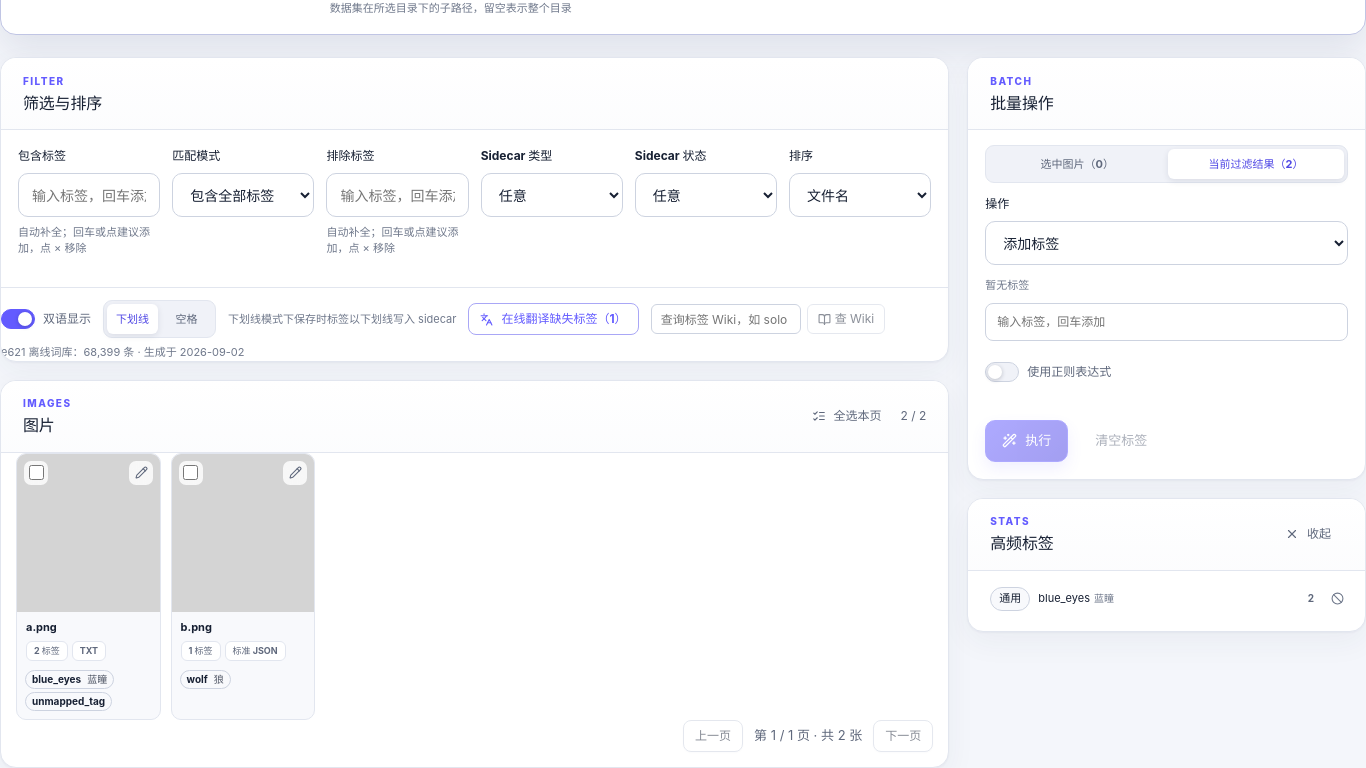
Test: TagManager bilingual display › renders stats and autocomplete bilingually
The image size is (1366, 768).
(page scrolled)
Expected: the button titled "筛选包含 blue_eyes · 蓝瞳" is shown, [983, 582, 1321, 616]
Double-click the button titled "a.png": (88, 545) [17, 454, 160, 637]
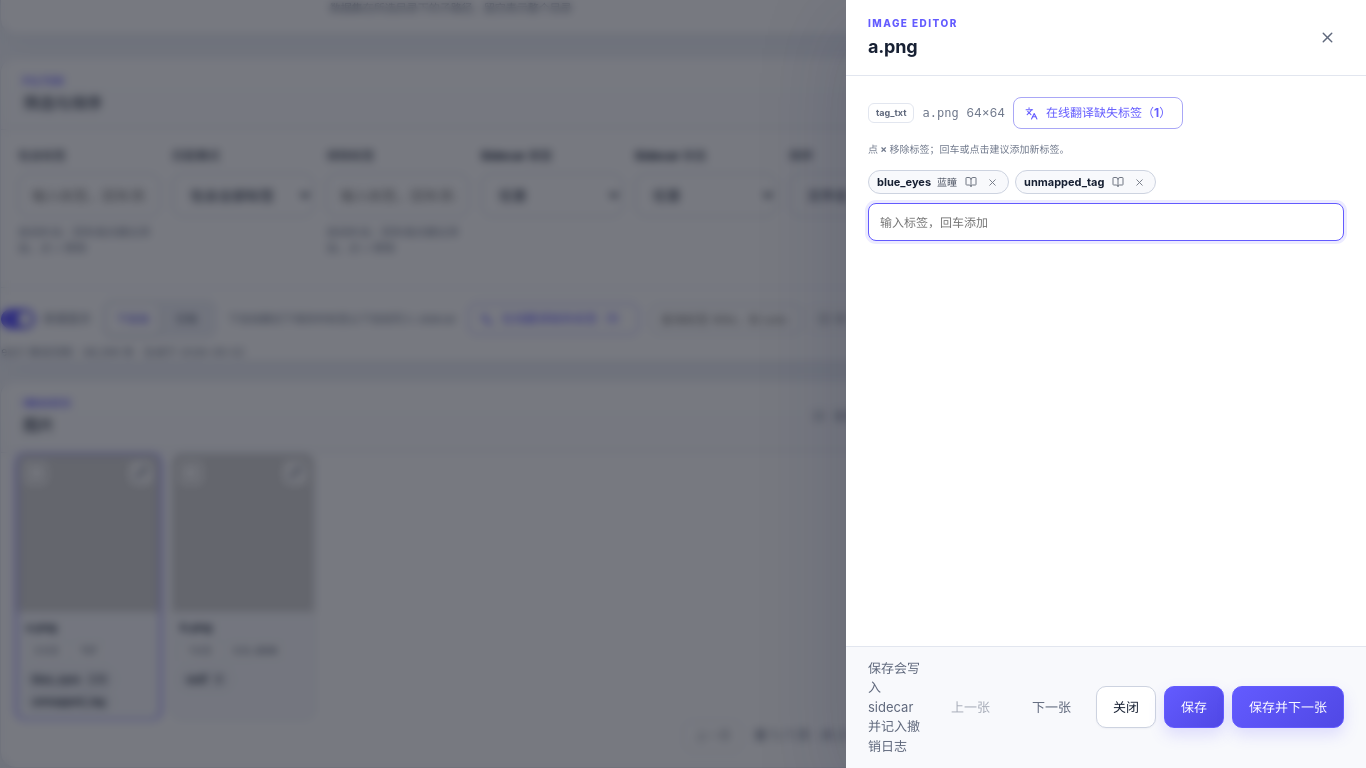
Now the dialog "a.png" is shown, box [846, 0, 1365, 767]
In the dropdown named "添加标签": (1106, 222) [868, 203, 1344, 241], type "long"
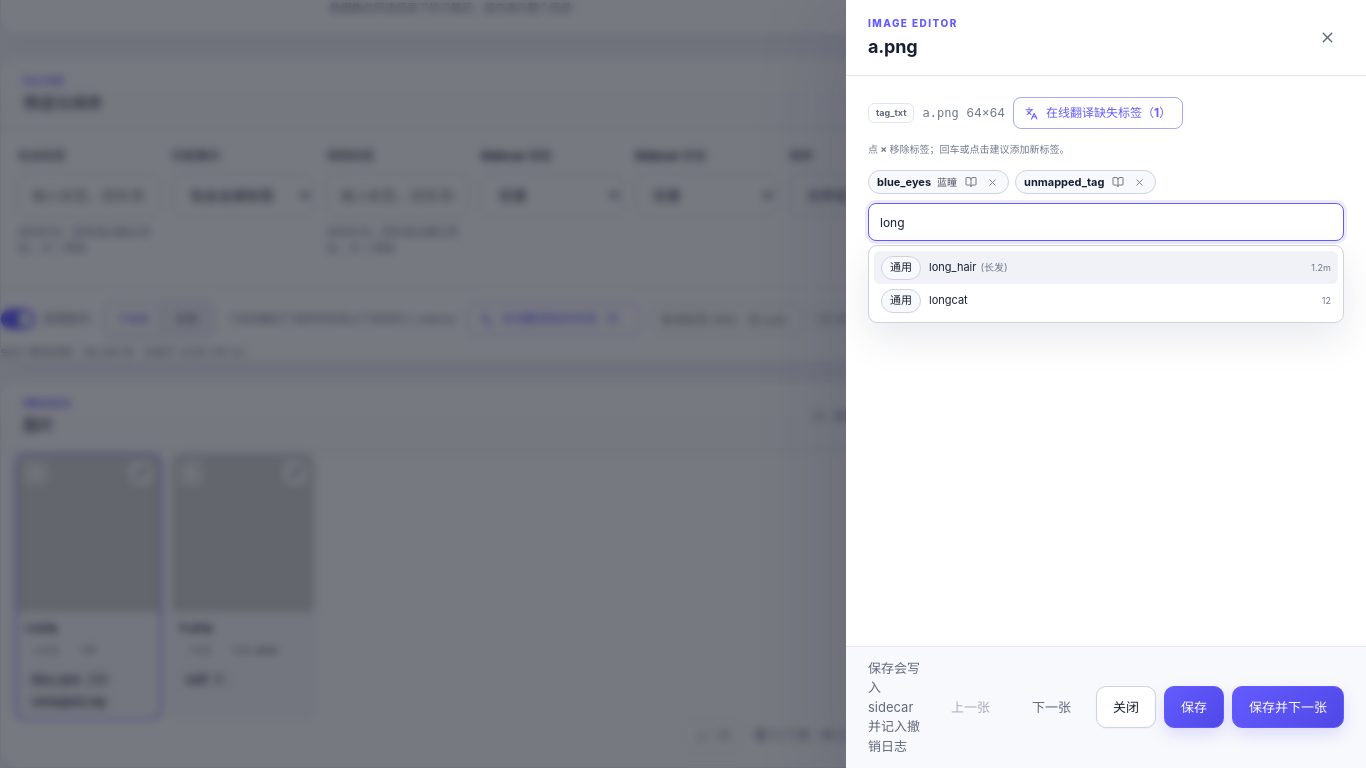
Expected: the option "通用 longcat 12" does not show "（", [874, 284, 1338, 317]
Now the option "通用 long_hair(长发) 1.2m" is shown, box [874, 251, 1338, 284]
